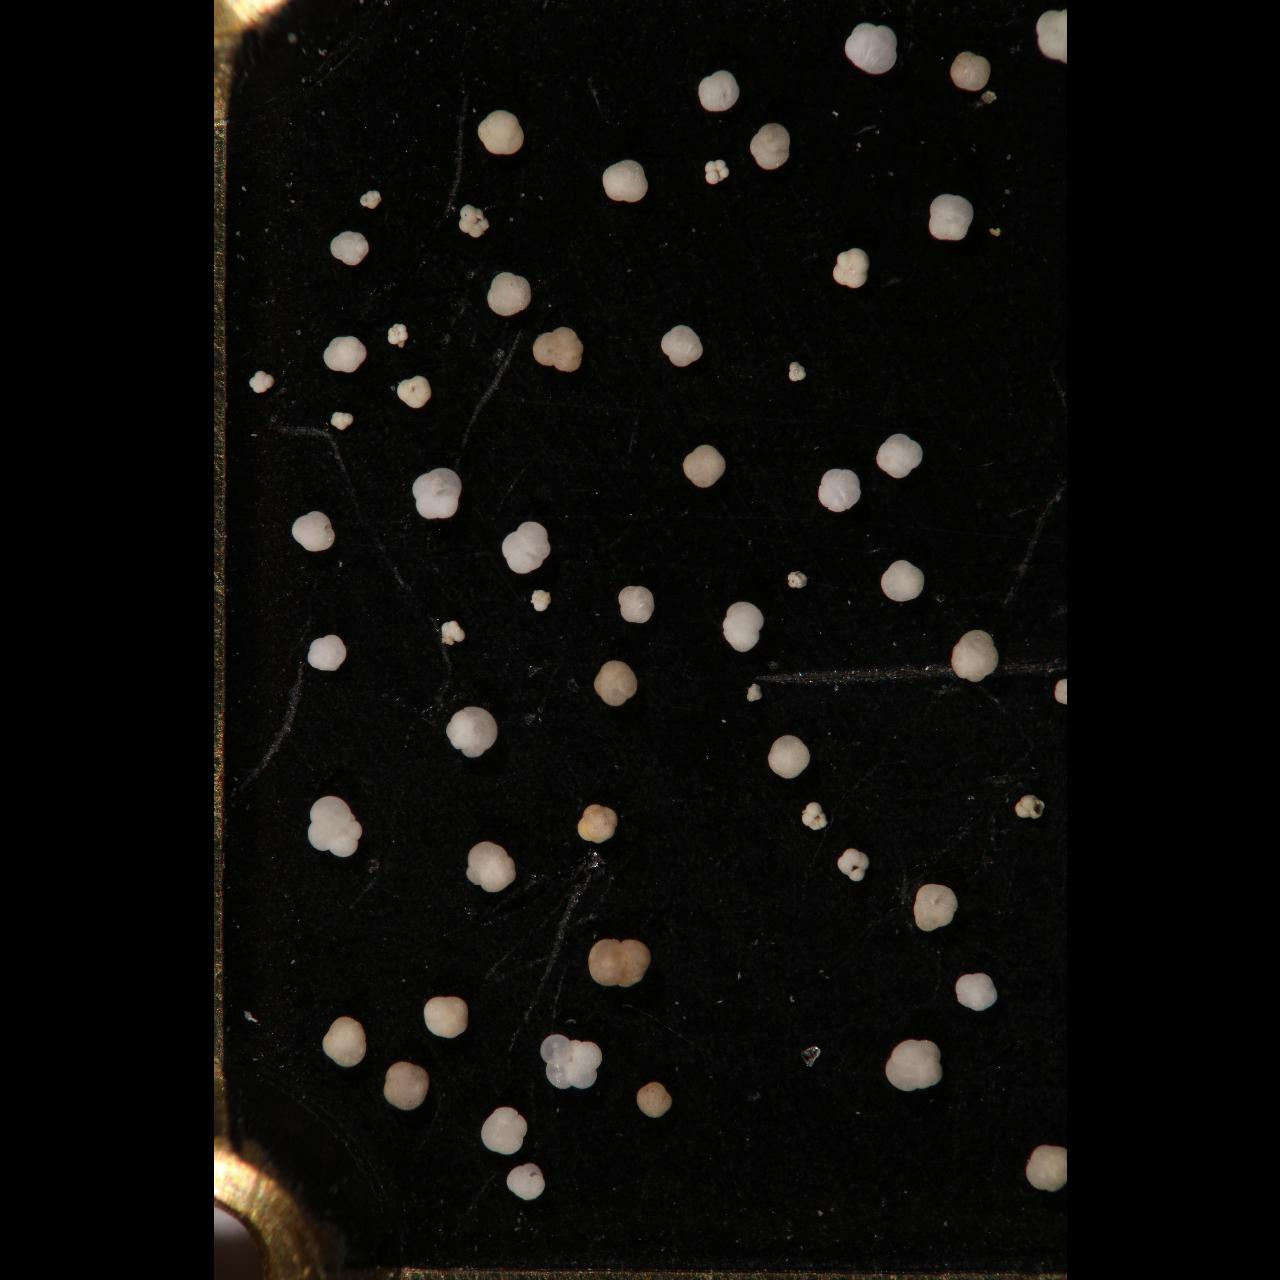planktic: (586, 934, 653, 992), (538, 1033, 601, 1091), (306, 794, 361, 859), (883, 1036, 942, 1094), (444, 703, 498, 761), (463, 838, 517, 896), (844, 20, 899, 75), (499, 518, 551, 576), (411, 467, 463, 522), (949, 628, 999, 685), (320, 1014, 368, 1070), (531, 324, 584, 374), (381, 1060, 430, 1112), (478, 1104, 527, 1156), (926, 192, 974, 244), (911, 880, 956, 934), (592, 658, 640, 708), (722, 598, 764, 654), (876, 430, 924, 479), (601, 156, 649, 204), (476, 109, 524, 156), (484, 270, 531, 318), (421, 993, 469, 1040), (681, 442, 727, 490), (765, 733, 811, 781), (817, 467, 862, 515), (878, 558, 926, 602), (750, 121, 792, 171), (660, 322, 704, 369), (1024, 1143, 1065, 1193), (290, 509, 335, 553), (697, 69, 738, 113), (949, 49, 990, 93), (955, 972, 999, 1013), (322, 335, 368, 374), (1036, 7, 1065, 67), (577, 803, 618, 844), (504, 1162, 545, 1203), (305, 632, 347, 672), (634, 1078, 674, 1121), (328, 229, 370, 267), (617, 583, 655, 624), (832, 246, 870, 287), (835, 846, 871, 885), (395, 374, 431, 409), (458, 204, 490, 238), (1014, 792, 1046, 822), (799, 801, 828, 831), (438, 620, 465, 648), (703, 157, 729, 186), (247, 368, 273, 395), (328, 410, 354, 433), (529, 588, 551, 614), (785, 568, 809, 592), (358, 188, 382, 210), (387, 324, 409, 347), (787, 359, 805, 383), (1053, 676, 1065, 708), (745, 681, 763, 703)
